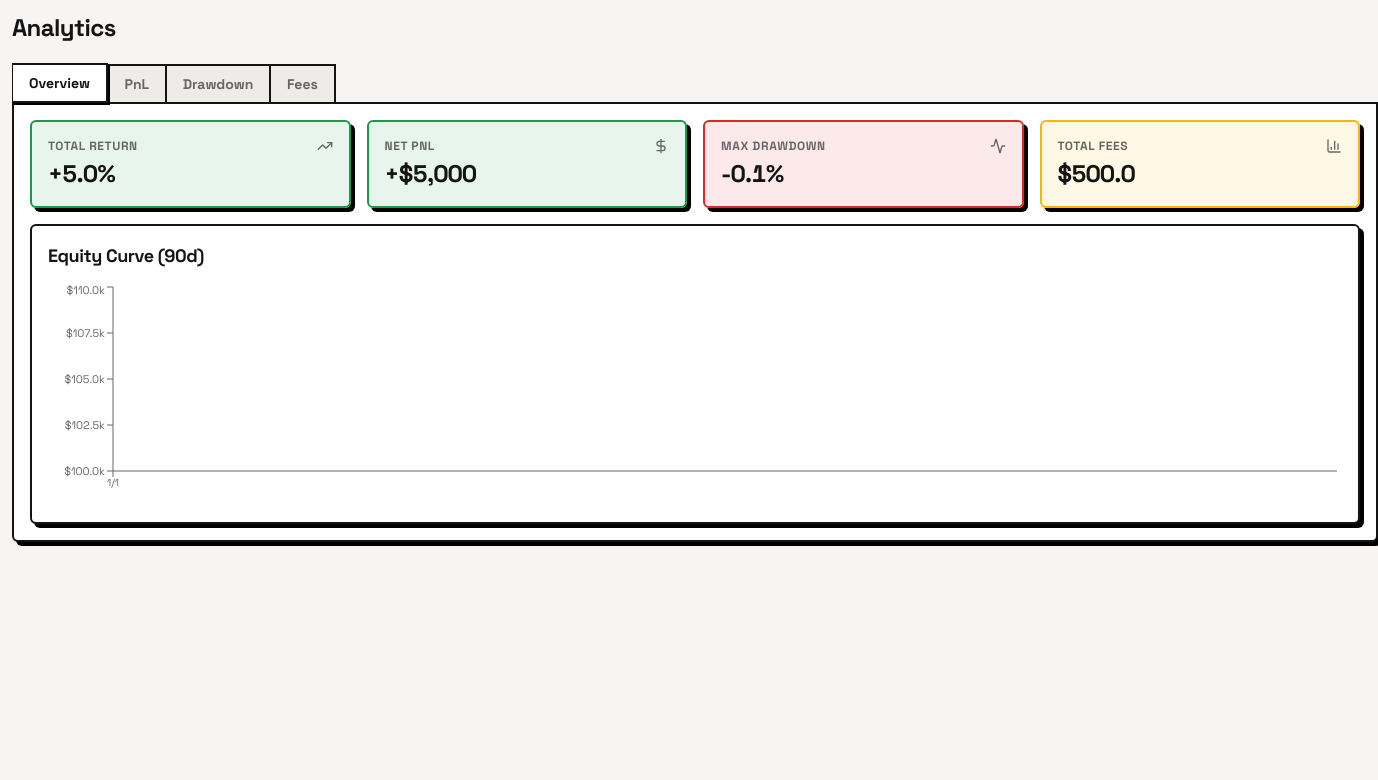
Scenario: AnalyticsPage › PnL Tab › shows loading state in PnL tab
Click the button "PnL". click: (137, 84)
box: [106,64,167,104]
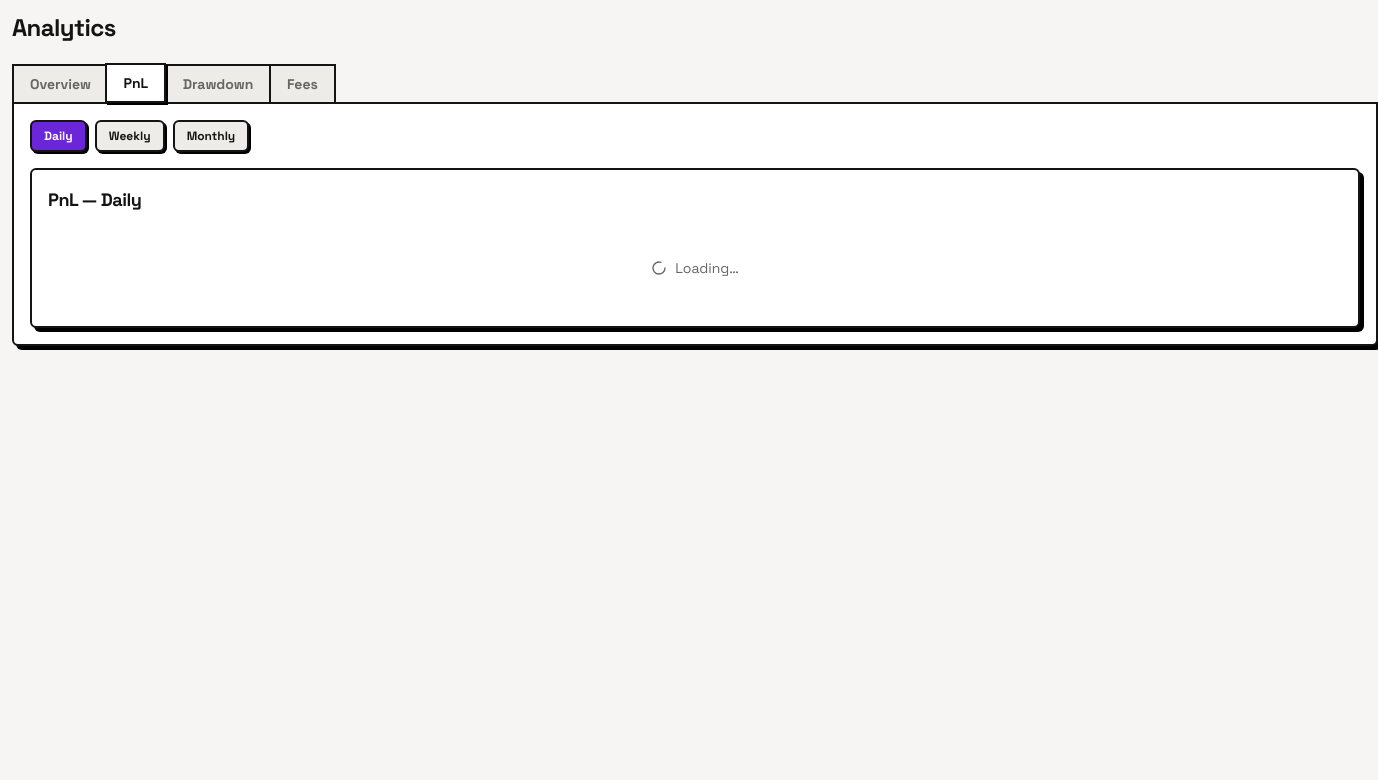
Result: the text "Loading…" is shown at [675,258,739,278]
